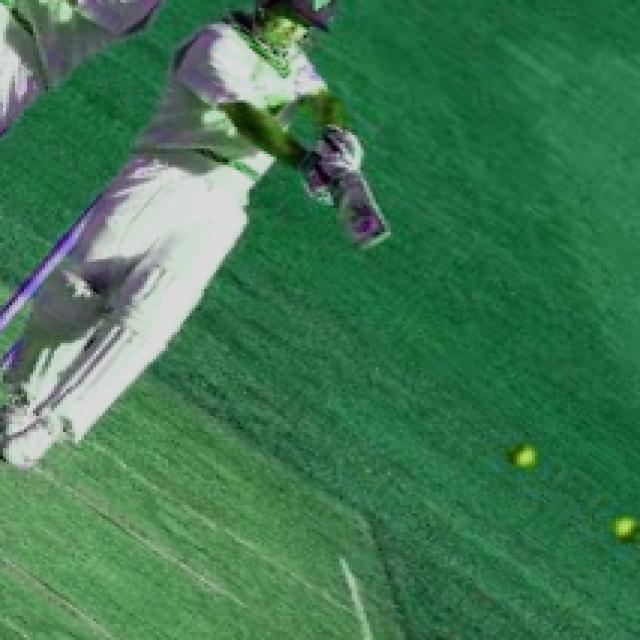toe: (350, 222, 394, 257)
